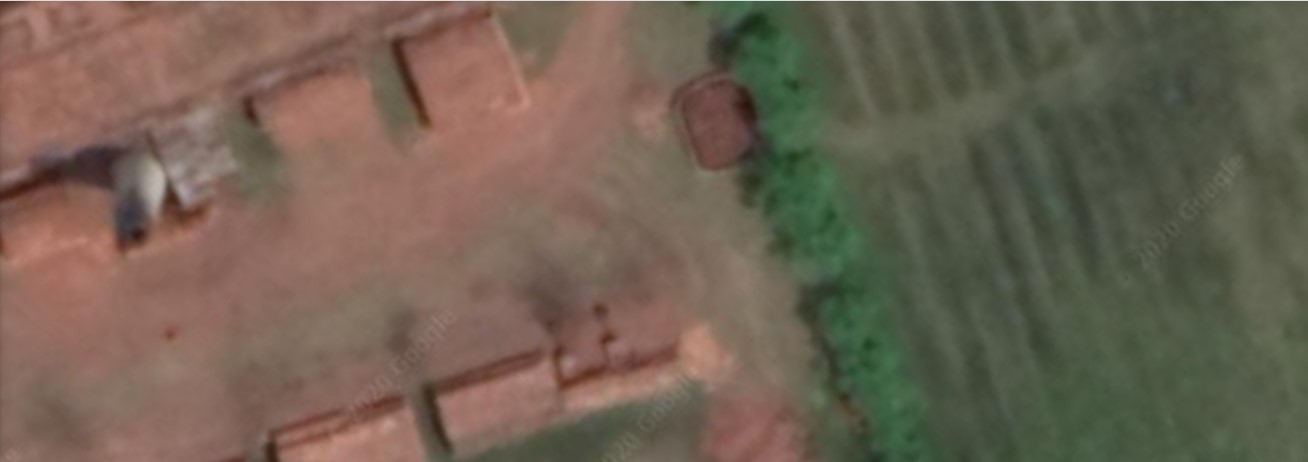kiln: (1, 1, 604, 454)
